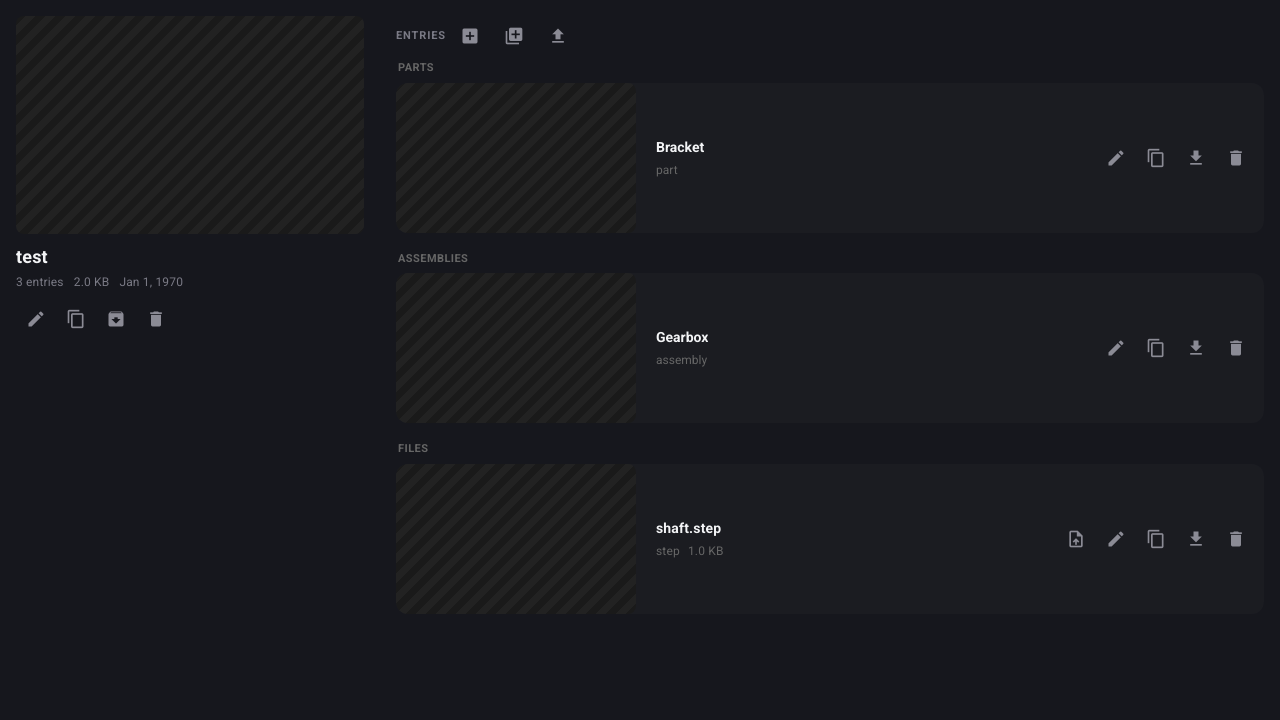
it: WorkspaceView › disables a row duplicate while it is in flight and re-enables it after
Check: the text "Bracket" is shown, box x1=656 y1=136 x2=704 y2=158
Click the button named "Duplicate Bracket": point(1156, 158) x1=1136 y1=138 x2=1176 y2=178
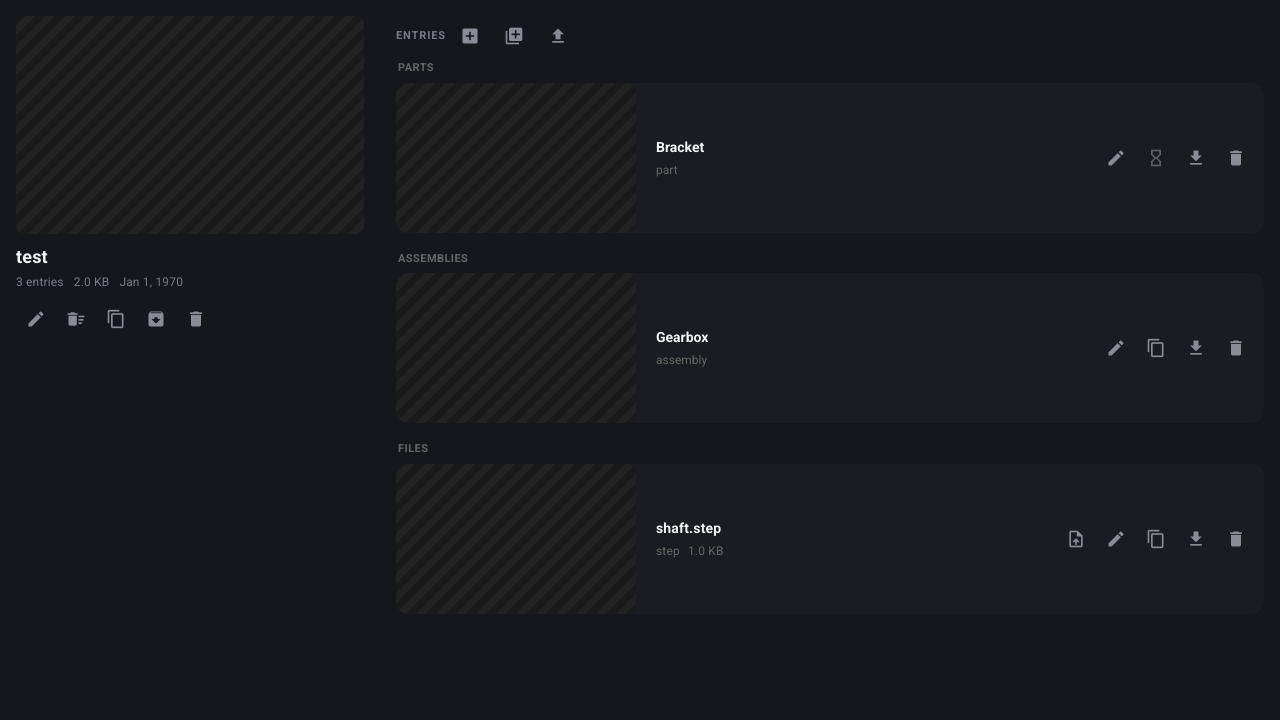
Check: the button named "Duplicate Bracket" is disabled
Click the button named "Duplicate Bracket": point(1156, 158) x1=1136 y1=138 x2=1176 y2=178
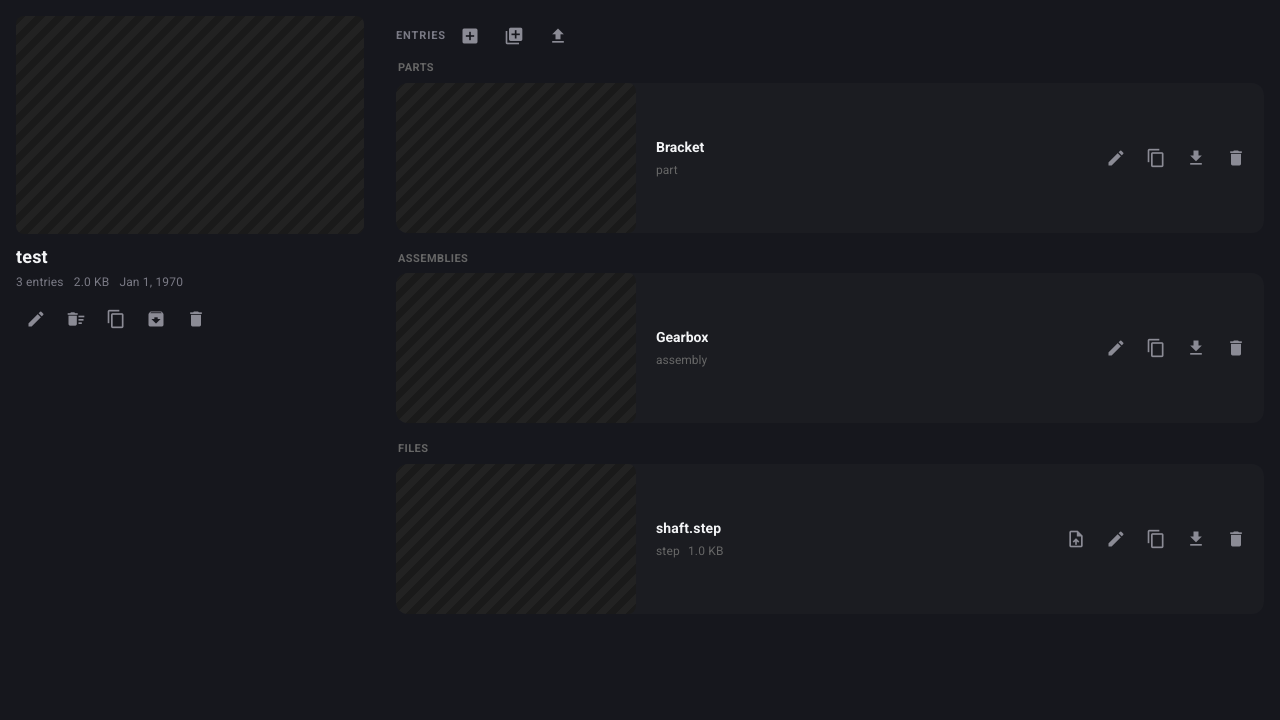
Check: the button named "Duplicate Bracket" is enabled, box x1=1136 y1=138 x2=1176 y2=178
